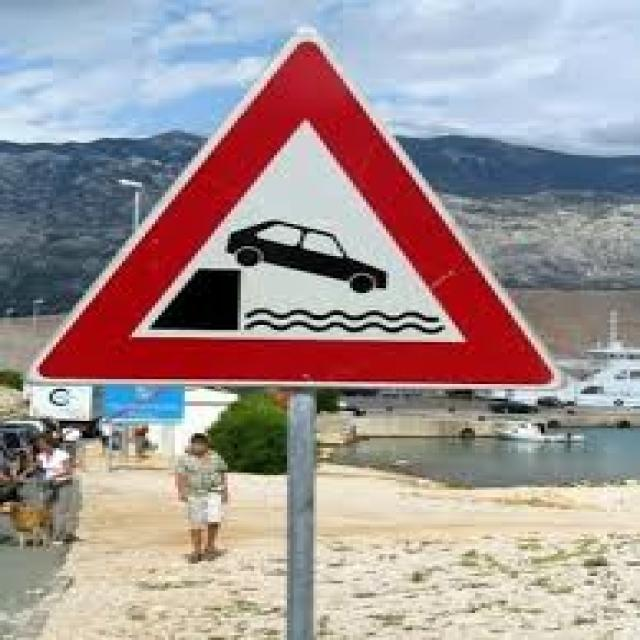quay side or river bank: (30, 31, 554, 395)
